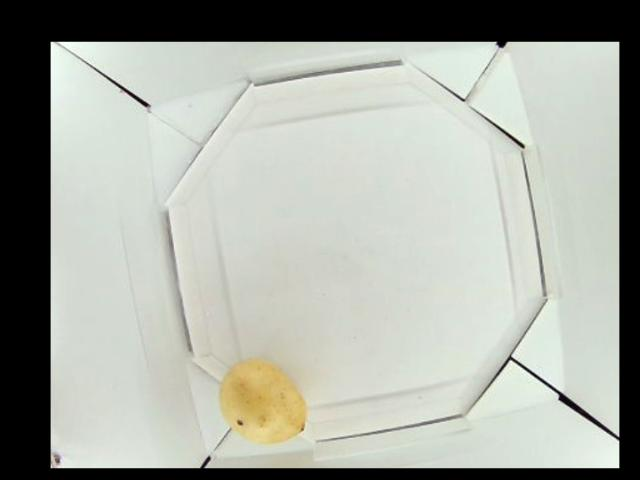Potato: (215, 358, 307, 442)
